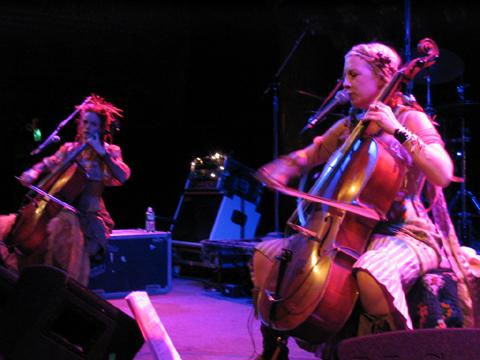person: (256, 42, 480, 360), (20, 97, 129, 289)
